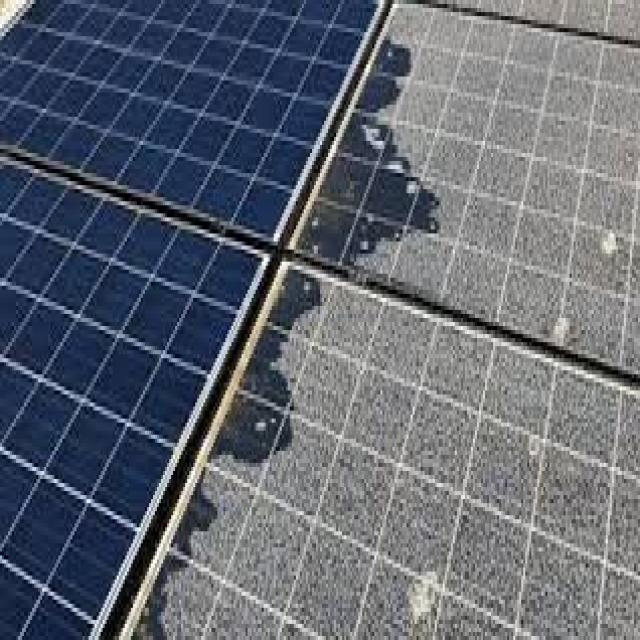clean-solar-panel: (0, 0, 388, 636)
